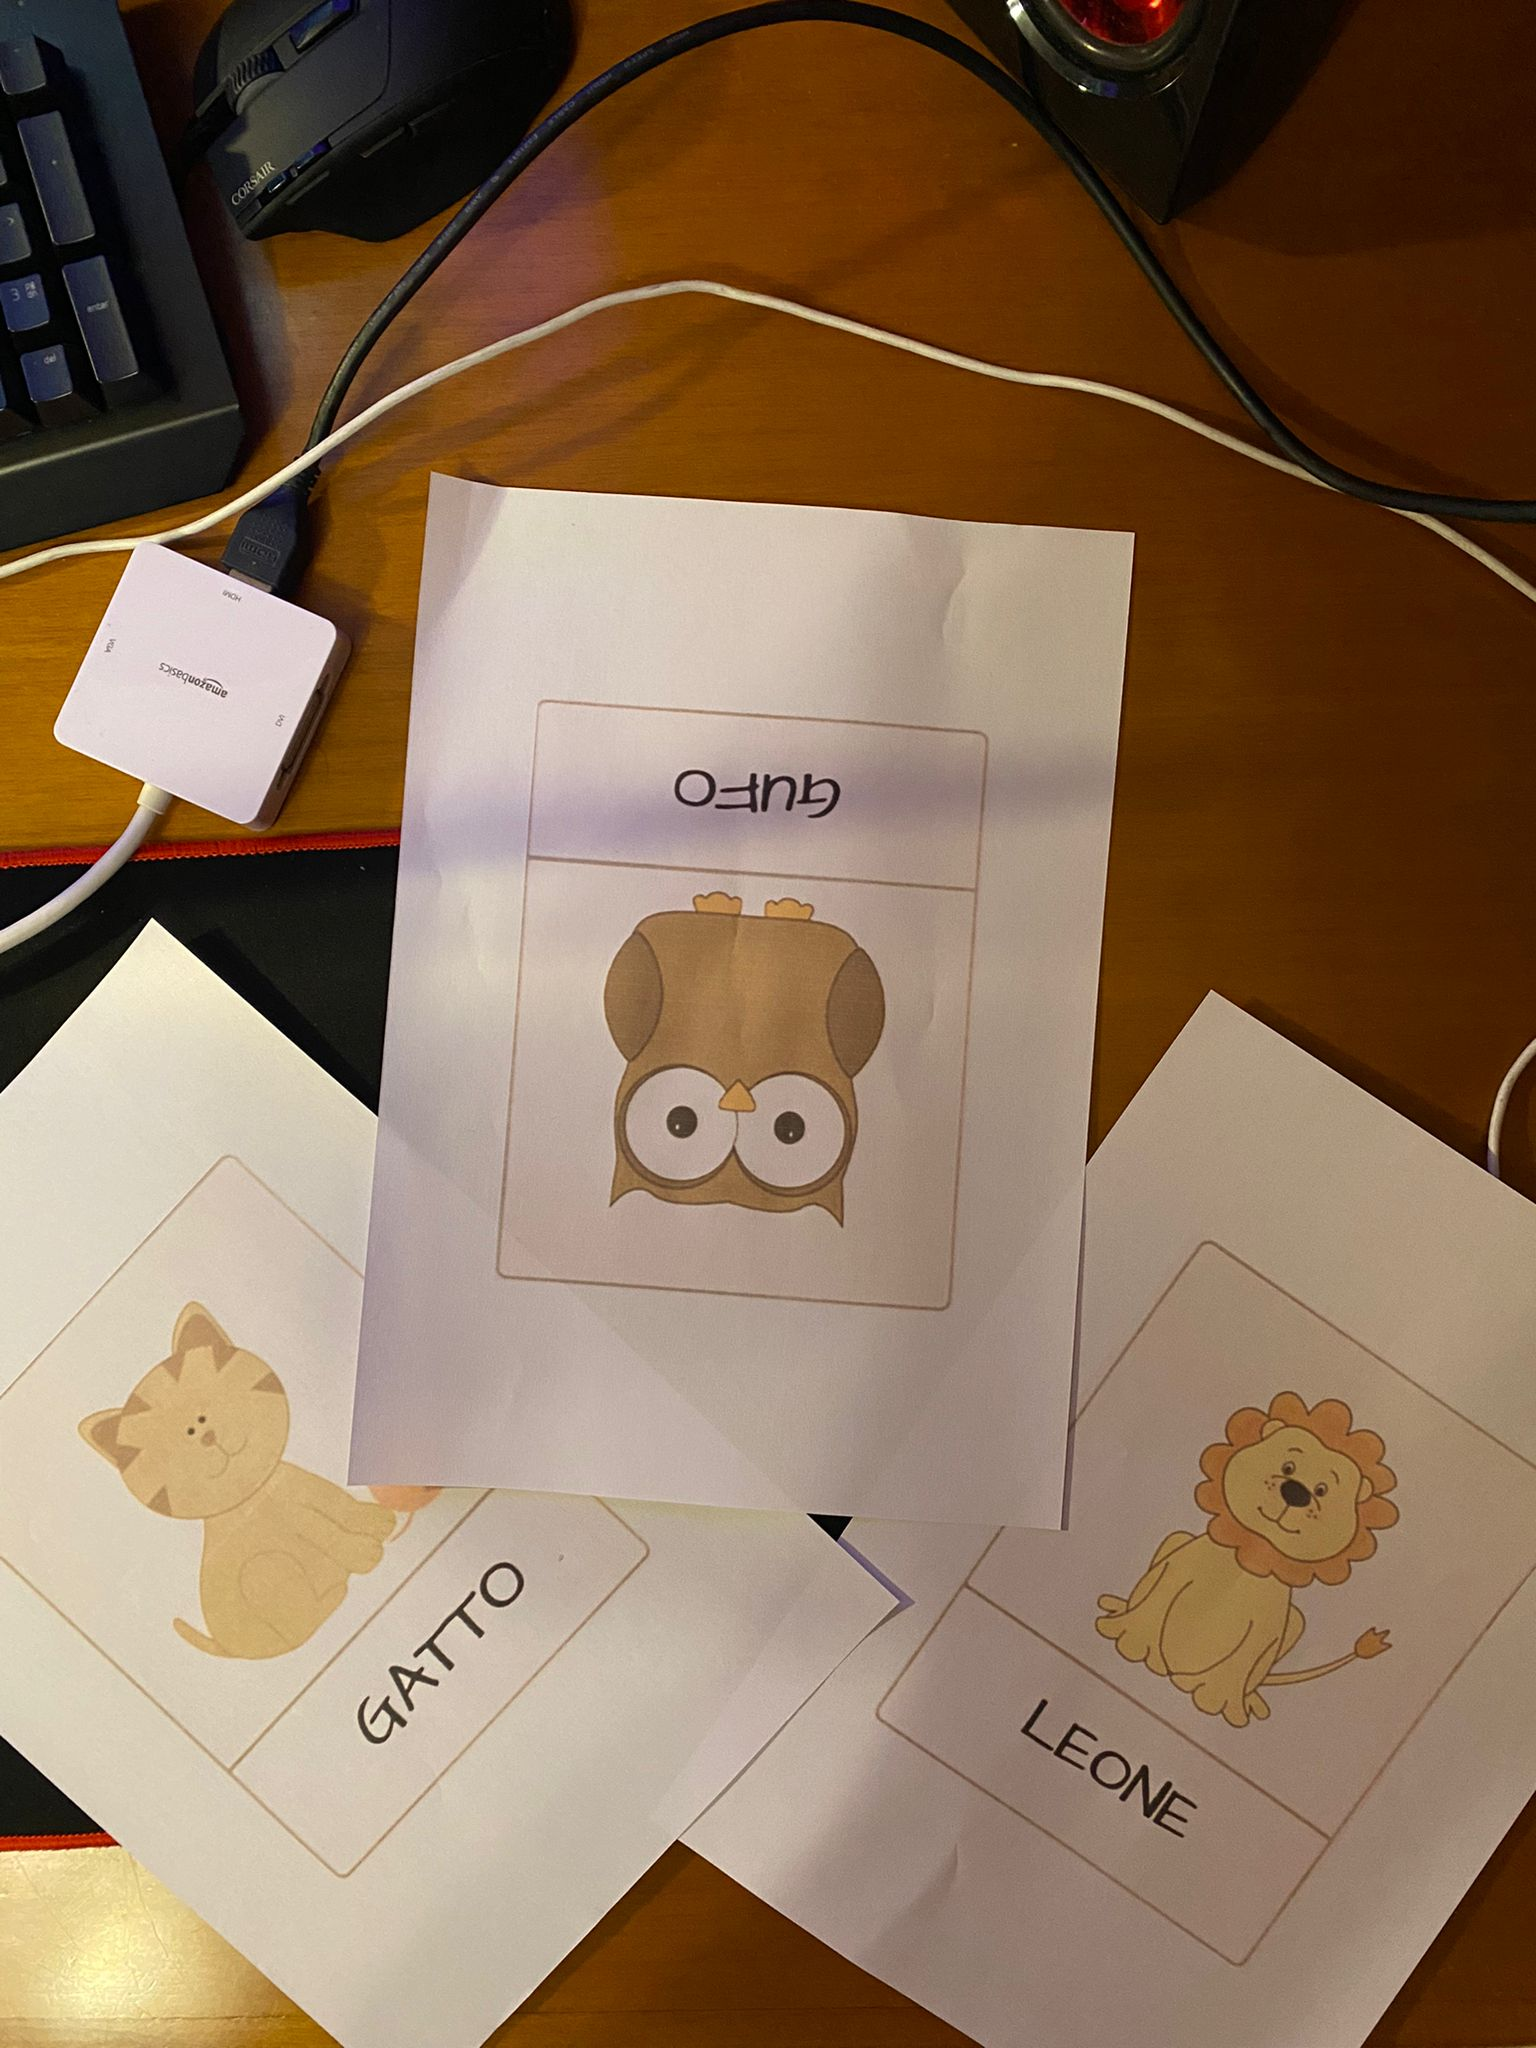gatto: (40, 1279, 565, 1775)
gufo: (510, 687, 971, 1319)
leone: (1014, 1336, 1418, 1939)
